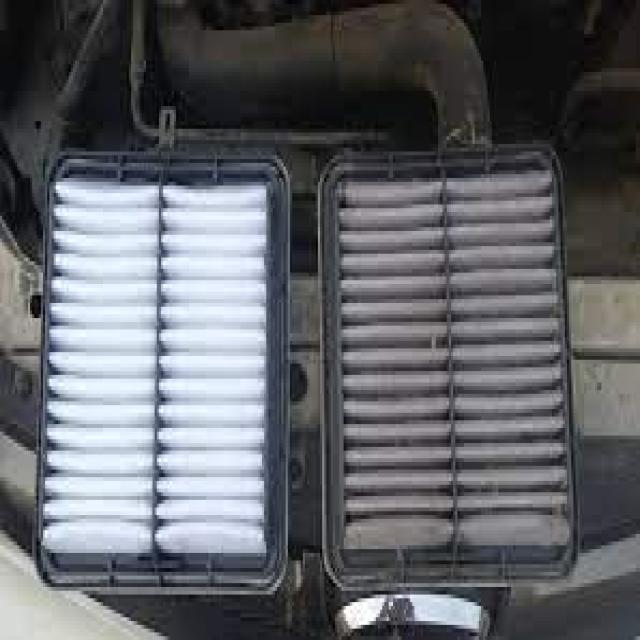air_filter: (33, 144, 292, 591), (316, 151, 577, 579)
